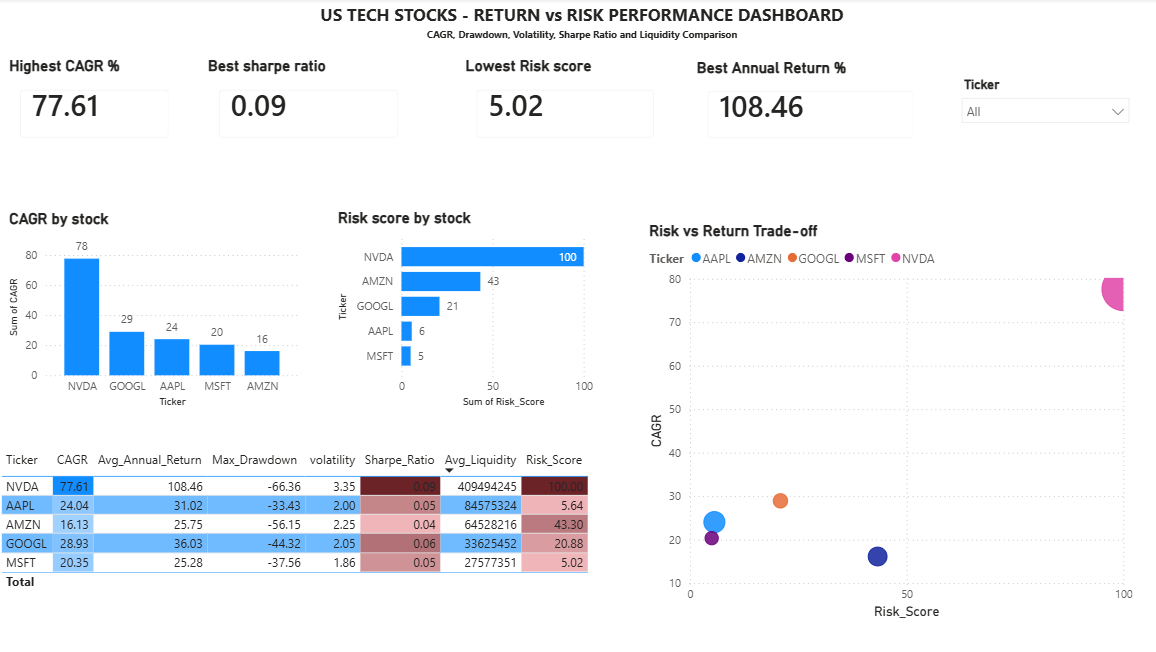

What the dashboard file says about the page in this screenshot:
{"tool":"powerbi","page":{"name":"Performance Overview","canvas":[1280,720],"ordinal":0},"visuals":[{"type":"textbox","box":[51.9,0,1182.3,63.9],"z":0},{"type":"cardVisual","title":"Highest CAGR %","fields":{"Data":["Max(final_kpi.CAGR)"]},"box":[9.6,64.5,197.6,107],"z":1000},{"type":"cardVisual","title":"Best sharpe ratio","fields":{"Data":["Max(final_kpi.Sharpe_Ratio)"]},"box":[227.8,64.5,231.9,107],"z":2000},{"type":"cardVisual","title":"Lowest Risk score","fields":{"Data":["Min(final_kpi.Risk_Score)"]},"box":[510.5,64.5,229.2,107],"z":3000},{"type":"cardVisual","title":"Best Annual Return %","fields":{"Data":["Max(final_kpi.Avg_Annual_Return)"]},"box":[764.3,65.9,260.7,105.7],"z":4000},{"type":"clusteredColumnChart","title":"CAGR by stock","fields":{"Category":["final_kpi.Ticker"],"Y":["Sum(final_kpi.CAGR)"]},"box":[9.6,231.9,328,222.3],"z":5000},{"type":"clusteredBarChart","title":"Risk score by stock","fields":{"Category":["final_kpi.Ticker"],"Y":["Sum(final_kpi.Risk_Score)"]},"box":[370.5,230.5,314.2,223.7],"z":6000},{"type":"scatterChart","title":"Risk vs Return Trade-off","fields":{"X":["final_kpi.Risk_Score"],"Y":["final_kpi.CAGR"],"Series":["final_kpi.Ticker"],"Size":["Sum(final_kpi.Avg_Liquidity)"]},"box":[712.2,245.6,540.7,440.5],"z":7000},{"type":"slicer","fields":{"Values":["final_kpi.Ticker"]},"box":[1049.7,81,204.5,90.6],"z":8000},{"type":"tableEx","fields":{"Values":["final_kpi.Ticker","final_kpi.CAGR","final_kpi.Avg_Annual_Return","final_kpi.Max_Drawdown","final_kpi.volatility","final_kpi.Sharpe_Ratio","final_kpi.Avg_Liquidity","final_kpi.Risk_Score"]},"box":[0,491.3,661.4,174.3],"z":9000}]}

Visuals, with their boxes in screenshot pixels (x1, y1, x2, y2), scaled from the page's 1280x720 canvas onto the 1156x652 screenshot:
textbox: {"x1": 47, "y1": 0, "x2": 1115, "y2": 58}
"Highest CAGR %" cardVisual: {"x1": 9, "y1": 58, "x2": 187, "y2": 155}
"Best sharpe ratio" cardVisual: {"x1": 206, "y1": 58, "x2": 415, "y2": 155}
"Lowest Risk score" cardVisual: {"x1": 461, "y1": 58, "x2": 668, "y2": 155}
"Best Annual Return %" cardVisual: {"x1": 690, "y1": 60, "x2": 926, "y2": 155}
"CAGR by stock" clusteredColumnChart: {"x1": 9, "y1": 210, "x2": 305, "y2": 411}
"Risk score by stock" clusteredBarChart: {"x1": 335, "y1": 209, "x2": 618, "y2": 411}
"Risk vs Return Trade-off" scatterChart: {"x1": 643, "y1": 222, "x2": 1132, "y2": 621}
slicer - final_kpi.Ticker: {"x1": 948, "y1": 73, "x2": 1133, "y2": 155}
tableEx - final_kpi.Ticker x final_kpi.CAGR: {"x1": 0, "y1": 445, "x2": 597, "y2": 603}
